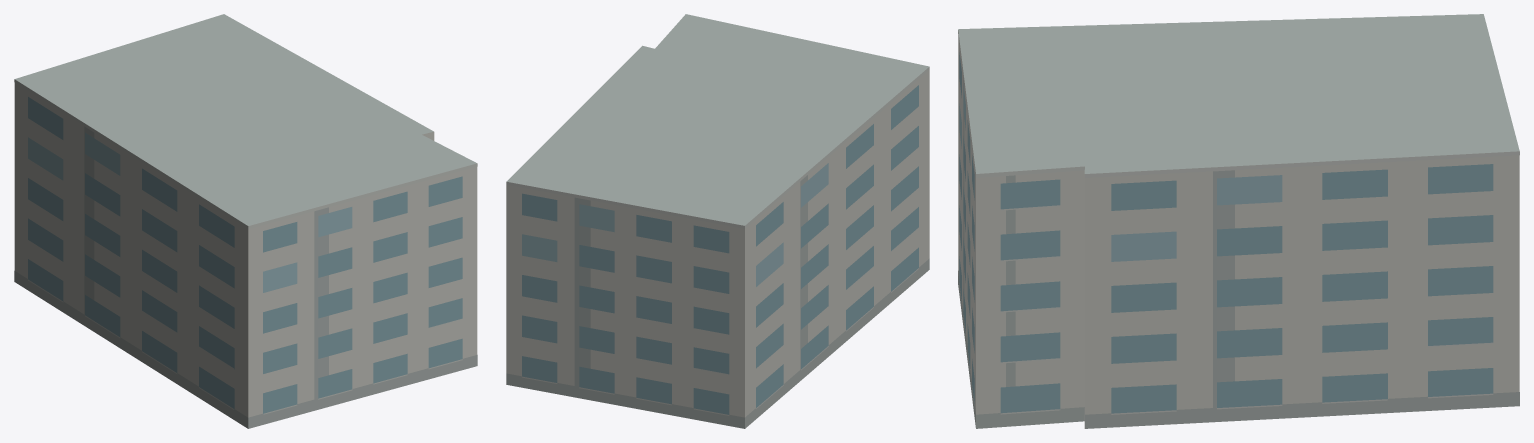
Rendered from survey-upis-32541837.glb.
3 renders of one model, left to right at view 1: azimuth 30°, elevation 25°; view 2: azimuth 150°, elevation 25°; view 3: azimuth 270°, elevation 25°, orthographic. The views are drawn at different scales.
Visible parts, largest first — view 1: survey-upis-32541837.tmp; view 2: survey-upis-32541837.tmp; view 3: survey-upis-32541837.tmp.
Part boxes in pixels (bbox=[...]): survey-upis-32541837.tmp: bbox=[14, 14, 477, 428]; survey-upis-32541837.tmp: bbox=[506, 14, 929, 428]; survey-upis-32541837.tmp: bbox=[958, 14, 1519, 428].
Size of the model in its own units: 20.55 by 15.25 by 30.47.
